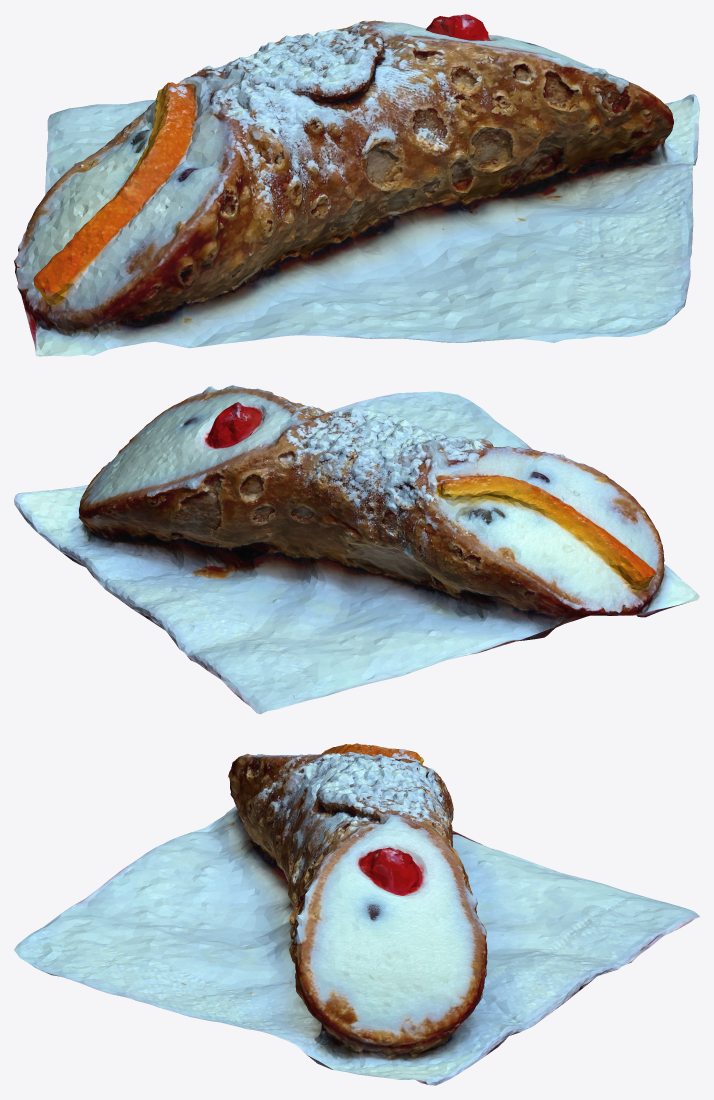
Rendered from dish15.glb.
The picture shows the model from 3 angles, top to bottom: view 1: azimuth 30°, elevation 25°; view 2: azimuth 150°, elevation 25°; view 3: azimuth 270°, elevation 25°; orthographic projection. The views are drawn at different scales.
Parts seen in each view (by area): view 1: model_New Qlone_20250524_101859966; view 2: model_New Qlone_20250524_101859966; view 3: model_New Qlone_20250524_101859966.
Part boxes in pixels (box(x1,y1,x2,y2)): model_New Qlone_20250524_101859966: box(14, 14, 699, 356); model_New Qlone_20250524_101859966: box(14, 385, 699, 714); model_New Qlone_20250524_101859966: box(14, 743, 699, 1085).
Bounding box in the file's own units: 222 × 55.82 × 215.
Materials: 1 (1 with a texture image).
